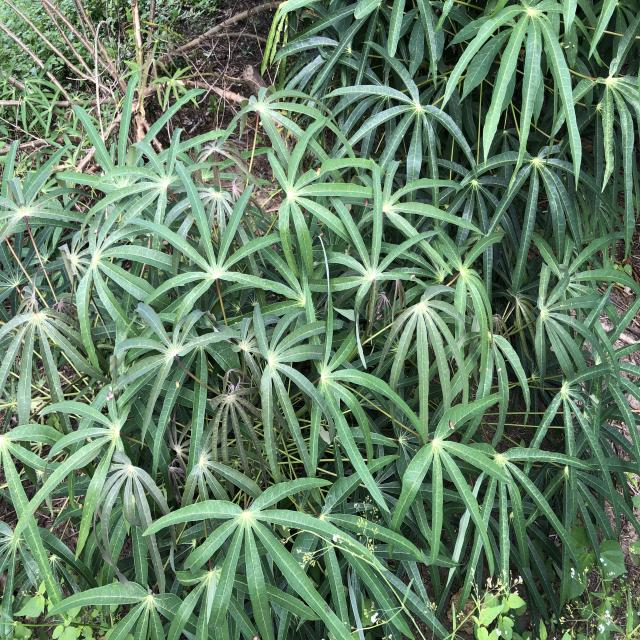Mosca: (103, 386, 121, 412), (441, 417, 459, 434), (404, 270, 421, 286), (171, 374, 185, 392), (329, 532, 343, 549), (491, 361, 504, 378), (91, 227, 99, 241)
